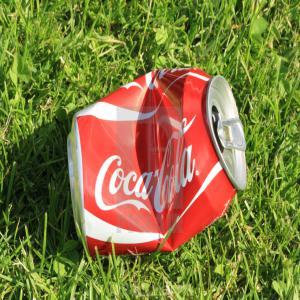Can: (67, 68, 250, 259)
